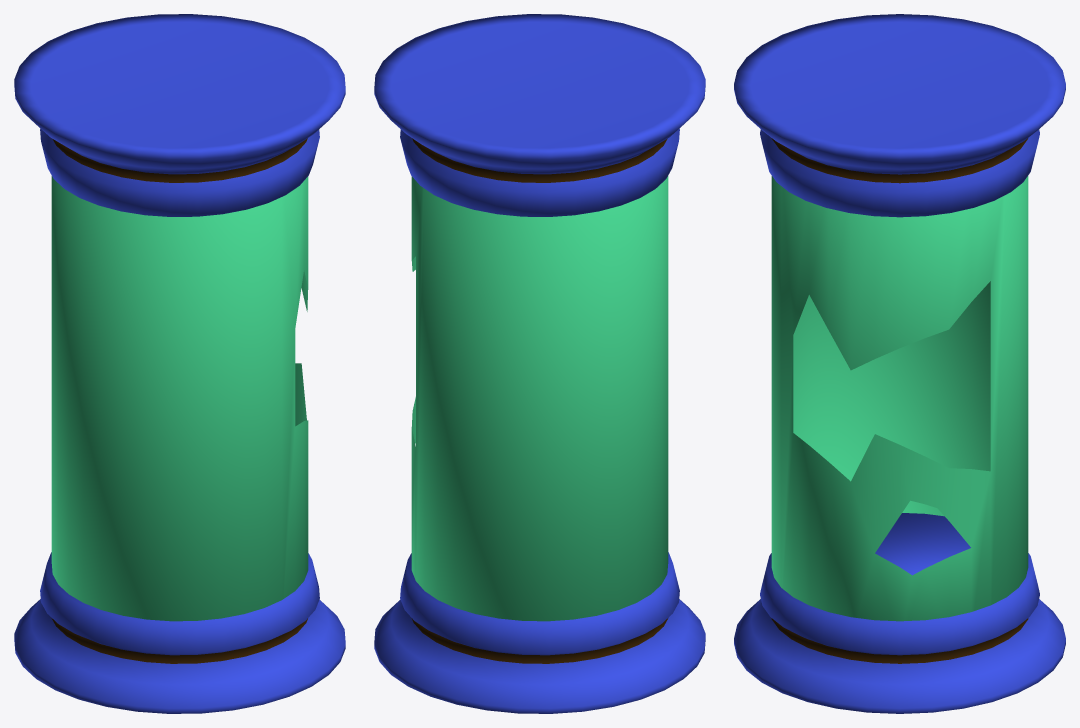
File: CEILING.glb
3 views of the same model, side by side, from view 1: azimuth 30°, elevation 25°; view 2: azimuth 150°, elevation 25°; view 3: azimuth 270°, elevation 25° (orthographic).
Visible parts, largest first — view 1: CYLINDER START GAME.001; view 2: CYLINDER START GAME.001; view 3: CYLINDER START GAME.001.
Boxes of the visible parts, <box> form: CYLINDER START GAME.001: <box>14,14,345,713</box>; CYLINDER START GAME.001: <box>374,14,705,713</box>; CYLINDER START GAME.001: <box>734,14,1065,713</box>.
Bounding box in the file's own units: 1.39 × 2.58 × 1.39.
